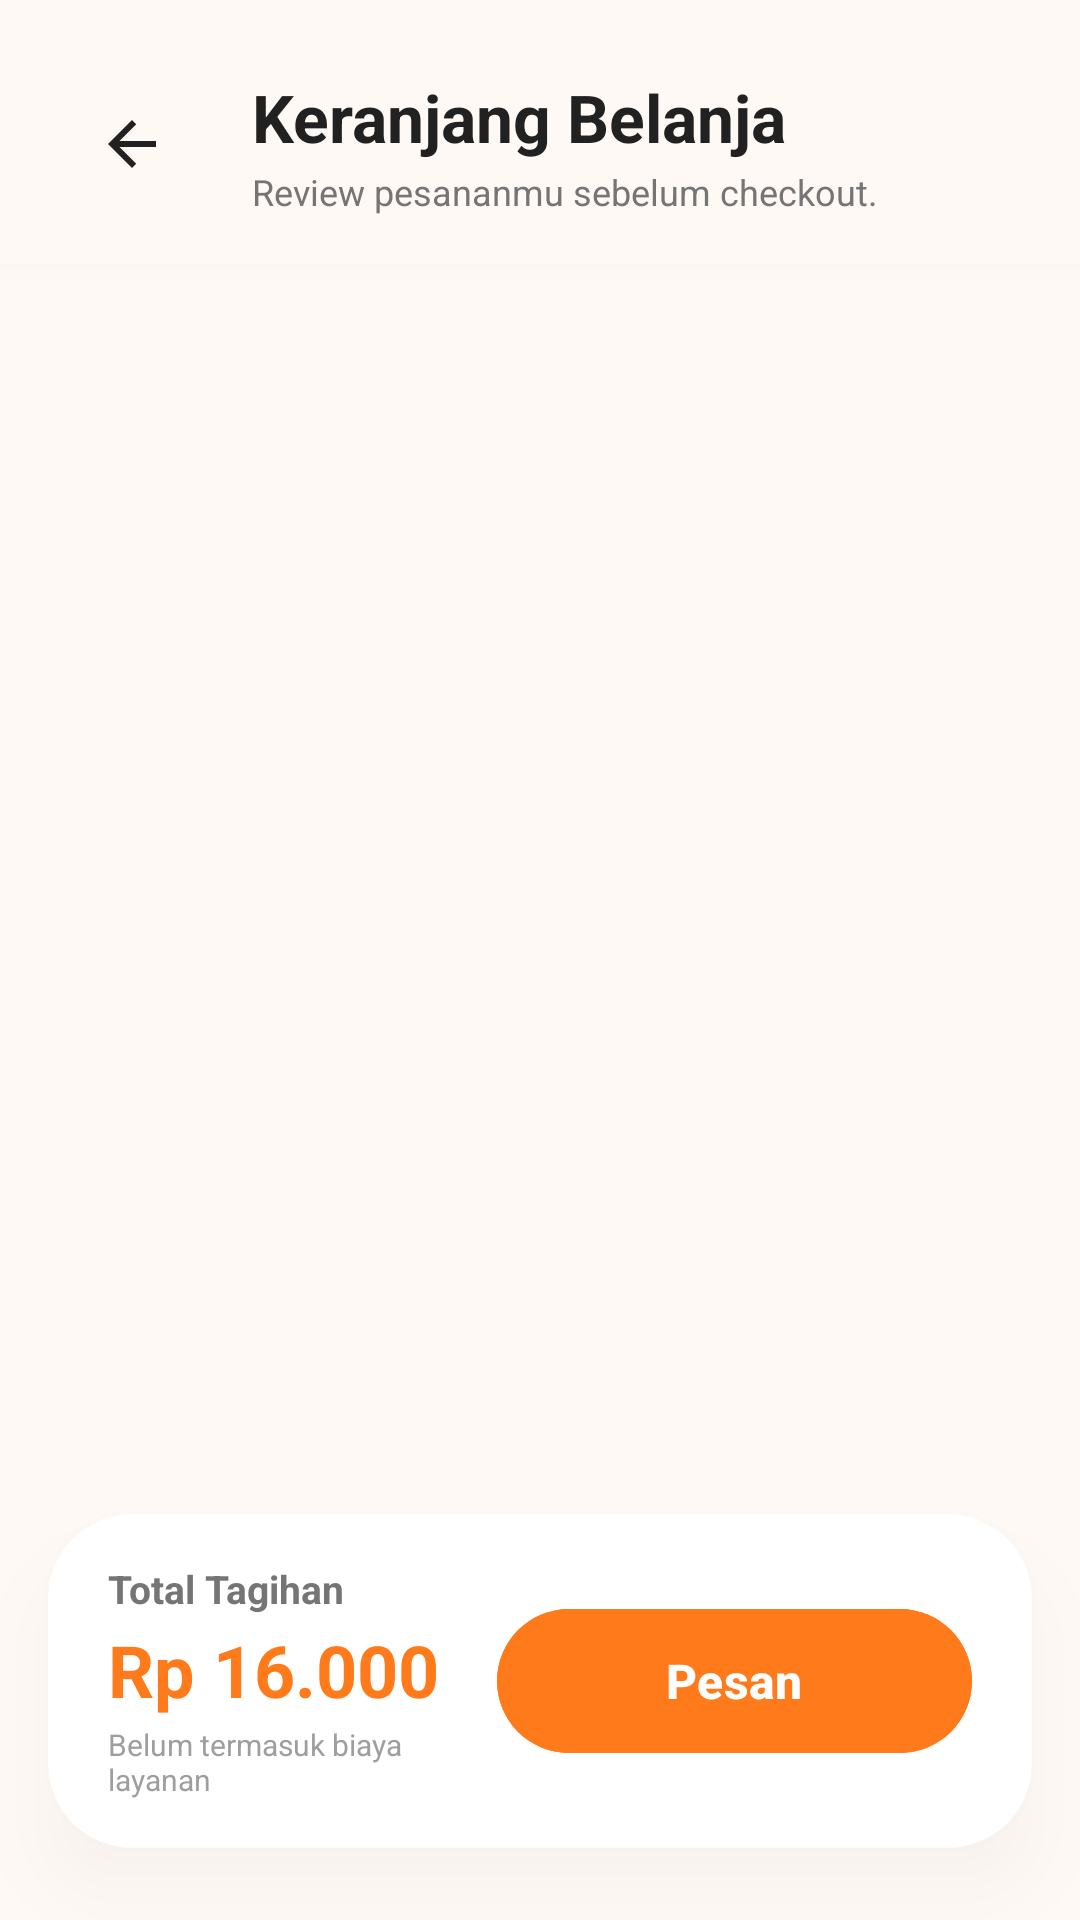

Named icons in this screenshot (1080x1920) and their centers, point (x, y):
Kembali: point (132, 144)
